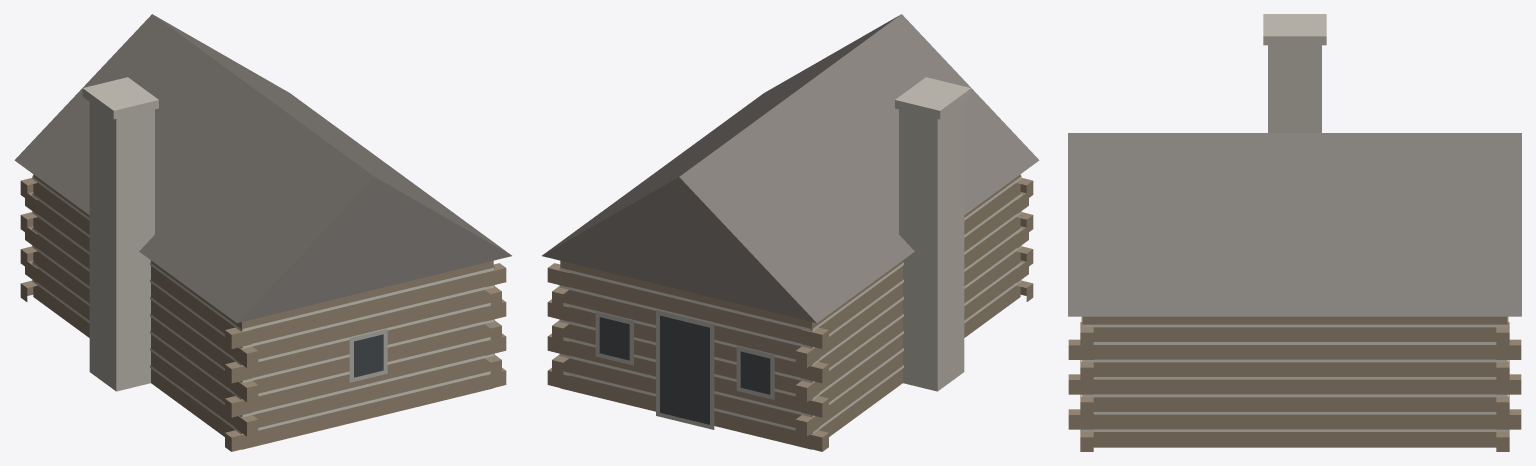
Rendered from recon_1835_blk_randolph_wells_d1_06__inferred_1835.glb.
3 renders of one model, left to right at view 1: azimuth 30°, elevation 25°; view 2: azimuth 150°, elevation 25°; view 3: azimuth 270°, elevation 25°, orthographic.
Visible parts, largest first — view 1: recon_1835_blk_randolph_wells_d1_06__inferred_1835; view 2: recon_1835_blk_randolph_wells_d1_06__inferred_1835; view 3: recon_1835_blk_randolph_wells_d1_06__inferred_1835.
Part boxes in pixels (box(x1,y1,x2,y2)): recon_1835_blk_randolph_wells_d1_06__inferred_1835: box(14, 14, 511, 451); recon_1835_blk_randolph_wells_d1_06__inferred_1835: box(542, 14, 1039, 451); recon_1835_blk_randolph_wells_d1_06__inferred_1835: box(1068, 14, 1521, 451).
Bounding box in the file's own units: 6.3 × 5.69 × 8.01.
